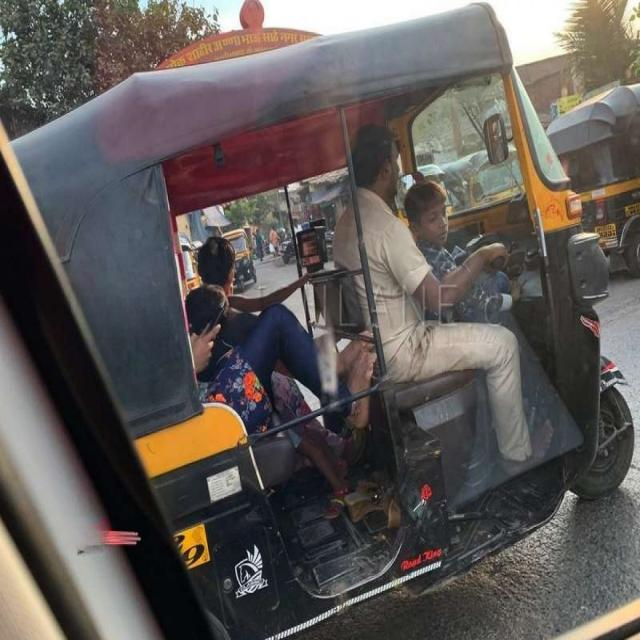autorickshaw: (12, 5, 632, 638)
